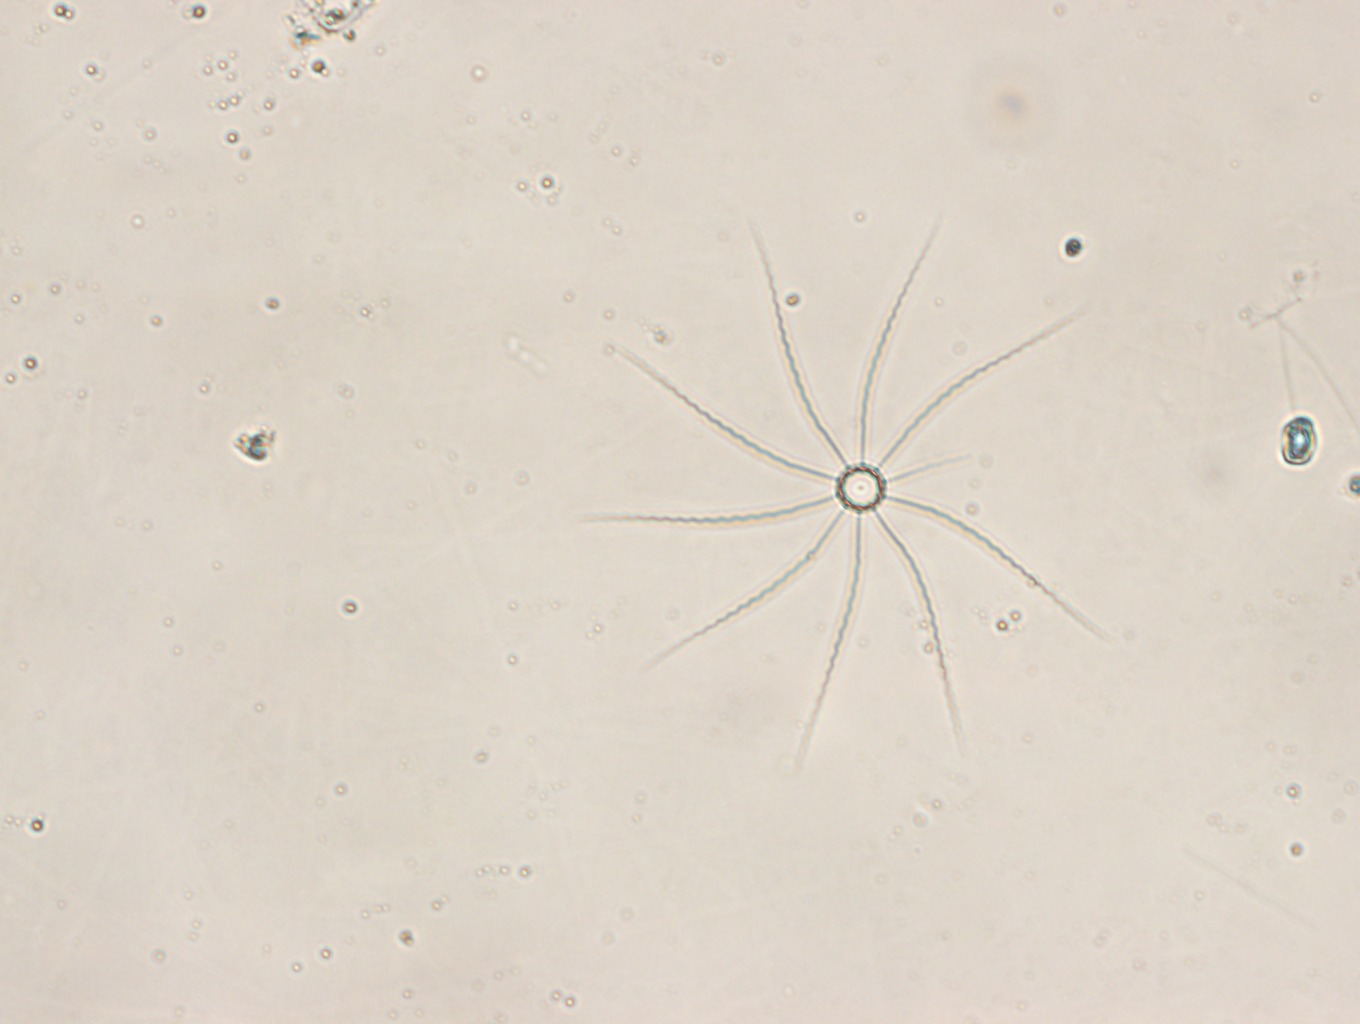bacteriastrum: (573, 200, 1105, 765)
